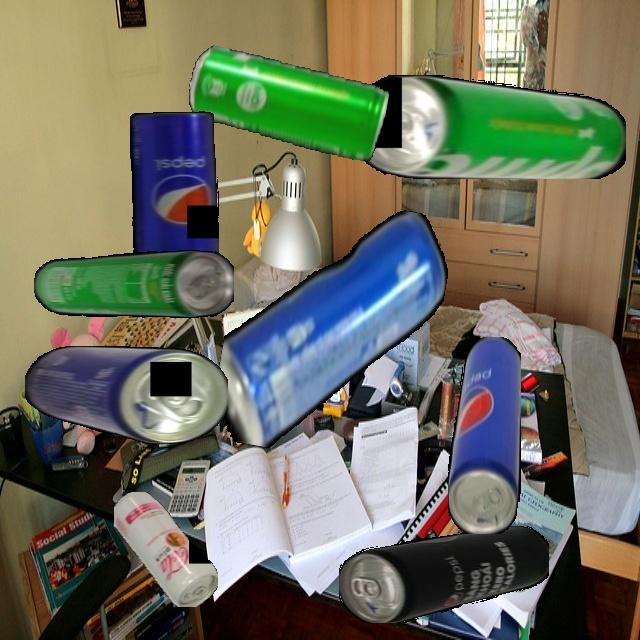debris: (207, 184, 457, 473), (352, 74, 626, 179), (182, 42, 392, 164), (339, 525, 549, 623), (24, 346, 228, 444), (447, 336, 521, 534), (129, 111, 219, 267), (33, 250, 234, 318), (114, 491, 218, 607)
